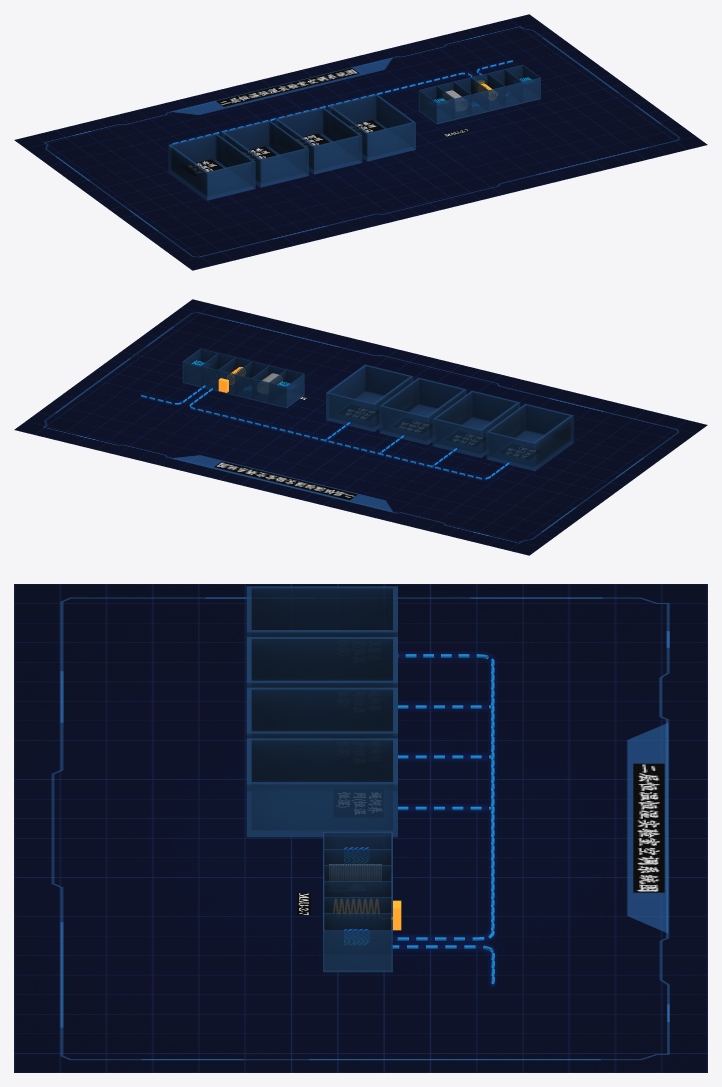
File: Air_ConditioningSystemFlowChart_MAU_2_3.FBX
The picture shows the model from 3 angles, top to bottom: view 1: azimuth 30°, elevation 25°; view 2: azimuth 150°, elevation 25°; view 3: azimuth 270°, elevation 25°; orthographic projection. The views are drawn at different scales.
Parts seen in each view (by area): view 1: BG, Room, MAU_Body, RoomName, SA_Pipe; view 2: BG, Room, MAU_Body, RoomName, SA_Pipe, SF_Wind; view 3: BG, Room, MAU_Body, SA_Pipe, RoomName, SF_Wind, Coil.
Boxes of the visible parts, x1,y1,x2,y2 form: BG: (14, 14, 707, 270); Room: (168, 94, 415, 200); MAU_Body: (418, 64, 540, 124); RoomName: (183, 68, 469, 175); SA_Pipe: (169, 59, 513, 144); BG: (14, 299, 707, 555); Room: (326, 364, 573, 470); MAU_Body: (182, 348, 304, 408); RoomName: (214, 396, 540, 500); SA_Pipe: (140, 384, 511, 480); SF_Wind: (189, 388, 511, 479); BG: (14, 584, 707, 1072); Room: (246, 586, 397, 837); MAU_Body: (323, 832, 392, 972); SA_Pipe: (392, 651, 496, 986); RoomName: (297, 737, 664, 915); SF_Wind: (397, 654, 494, 940); Coil: (329, 864, 381, 880).
Size of the model in its own units: 250 by 16.32 by 150.
